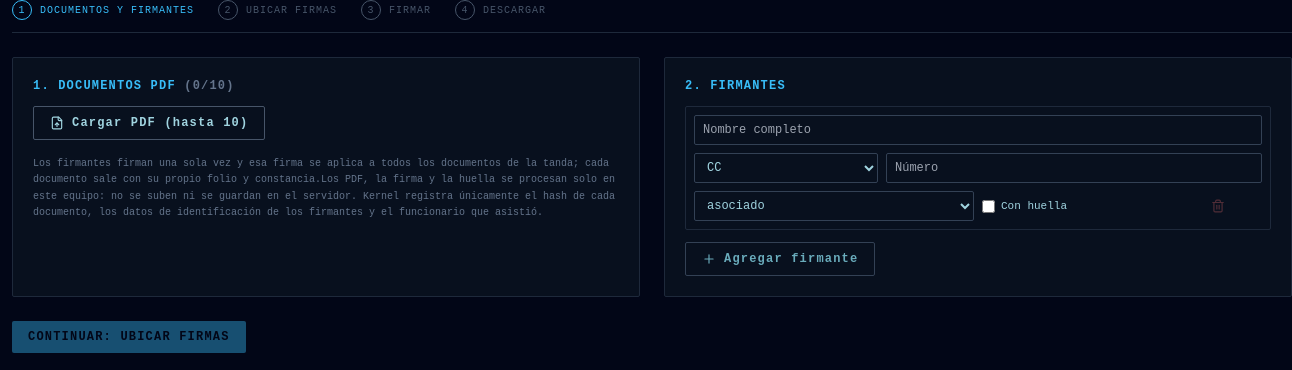
Test: Motor de firma — paso 1: firmantes › el número de documento solo admite letras, números y guion
In the field named "Número de documento": point(1074, 168) [886,153,1262,183], type "1.088 000-111 #"
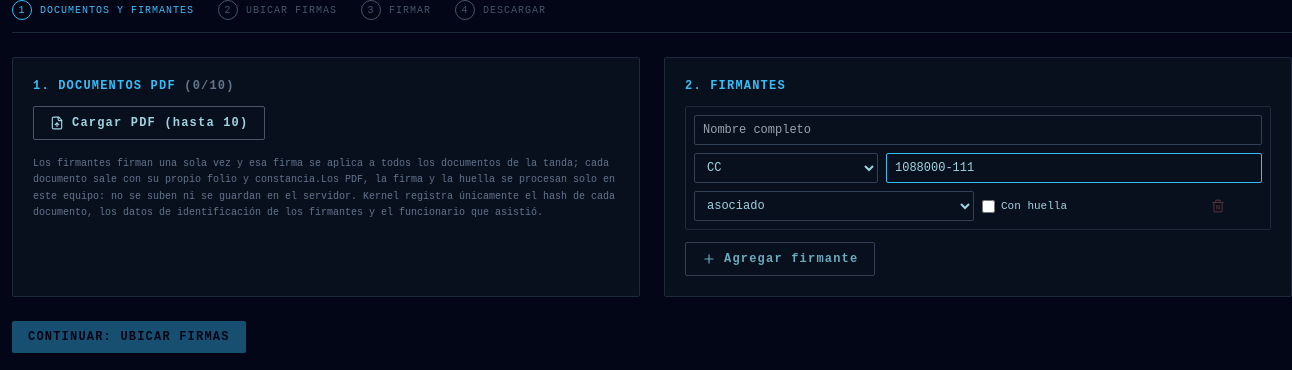
Expected: the field named "Número de documento" holds "1088000-111", [886,153,1262,183]
